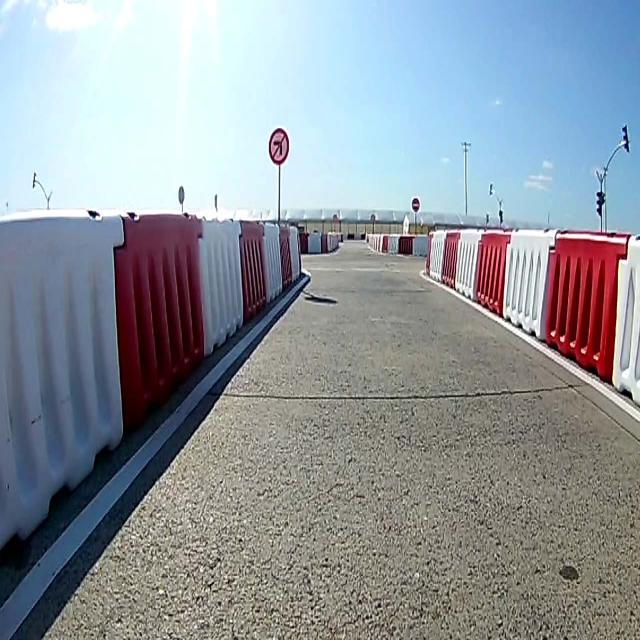girisyok: (412, 196, 420, 212)
soladonulmez: (268, 127, 290, 165)
